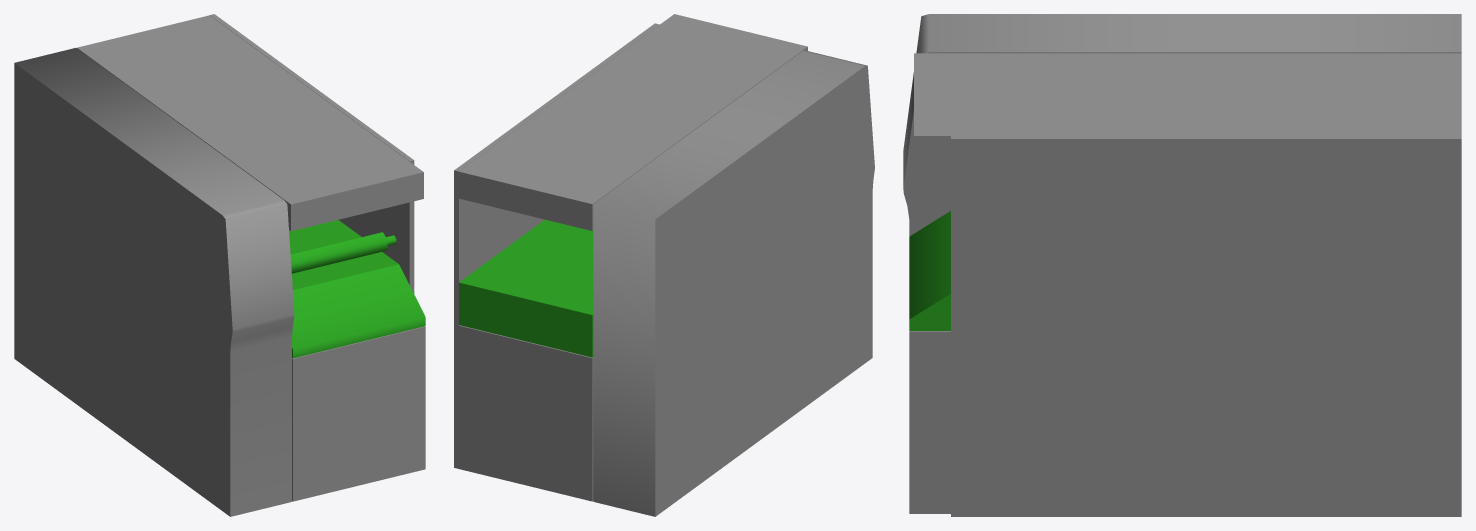
Rendered from YF_LT_XiaoYiQi.FBX.
3 views of the same model, side by side, from view 1: azimuth 30°, elevation 25°; view 2: azimuth 150°, elevation 25°; view 3: azimuth 270°, elevation 25° (orthographic). The views are drawn at different scales.
Parts seen in each view (by area): view 1: YF_Model_LT_XiaoYiQi; view 2: YF_Model_LT_XiaoYiQi; view 3: YF_Model_LT_XiaoYiQi.
Part boxes in pixels (x1,y1,x2,y2): YF_Model_LT_XiaoYiQi: (14, 14, 425, 516); YF_Model_LT_XiaoYiQi: (454, 14, 874, 516); YF_Model_LT_XiaoYiQi: (903, 14, 1461, 516).
Size of the model in its own units: 27.47 by 38.8 by 51.9.
